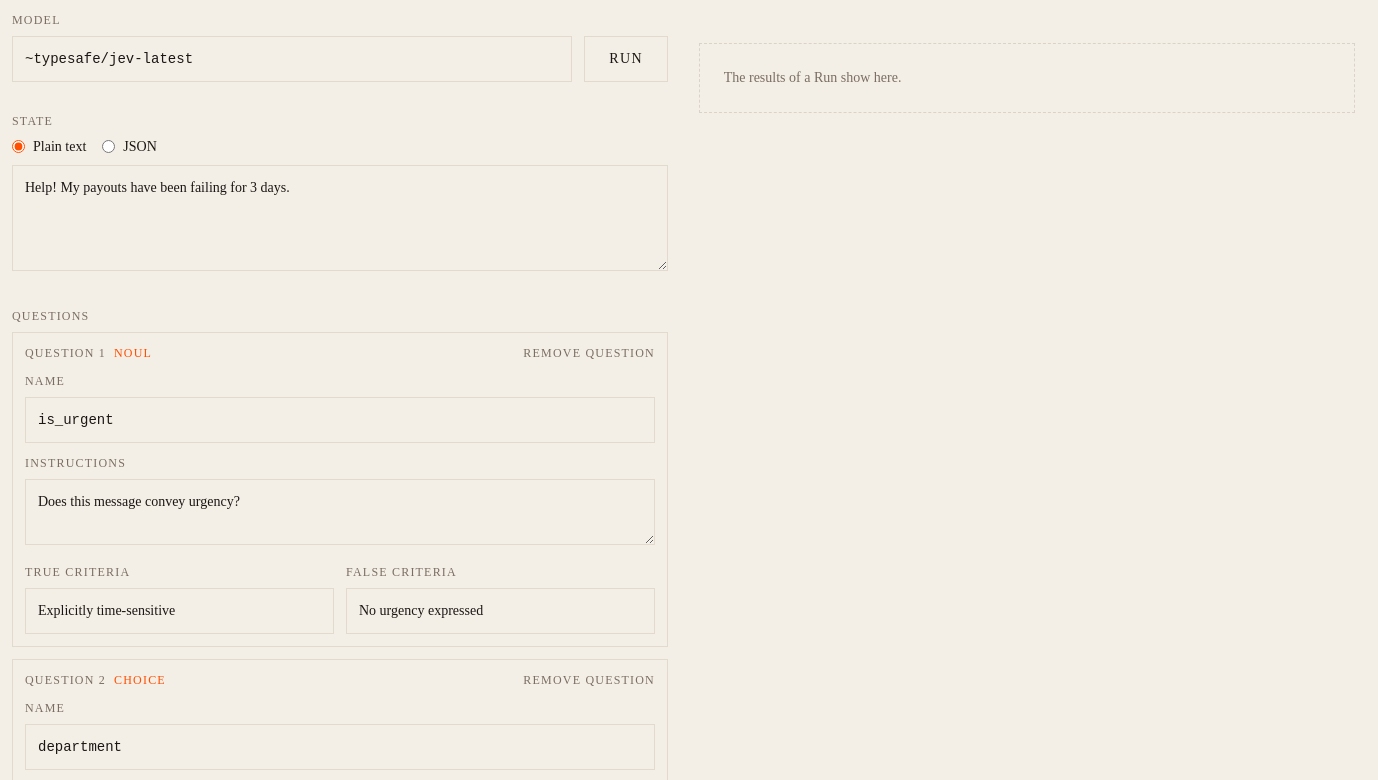
Test: Options panel › shows an answer of an unknown type by name without breaking the other answers
Click the button "Run" at (626,59), box left=584, top=36, right=668, bottom=82
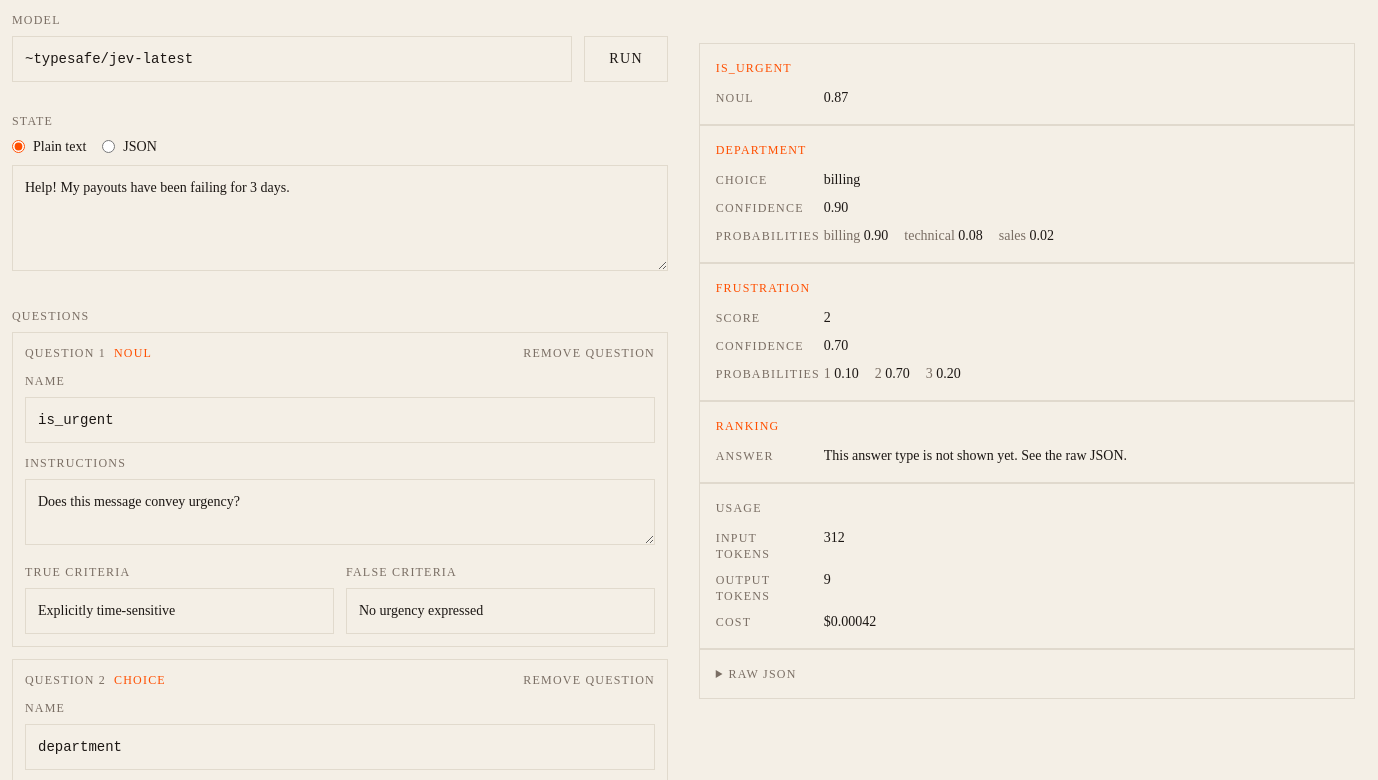
Now the element "ranking" shows "raw JSON", box left=824, top=448, right=1127, bottom=463
Now the element "is_urgent" shows "0.87", box left=824, top=90, right=848, bottom=105
